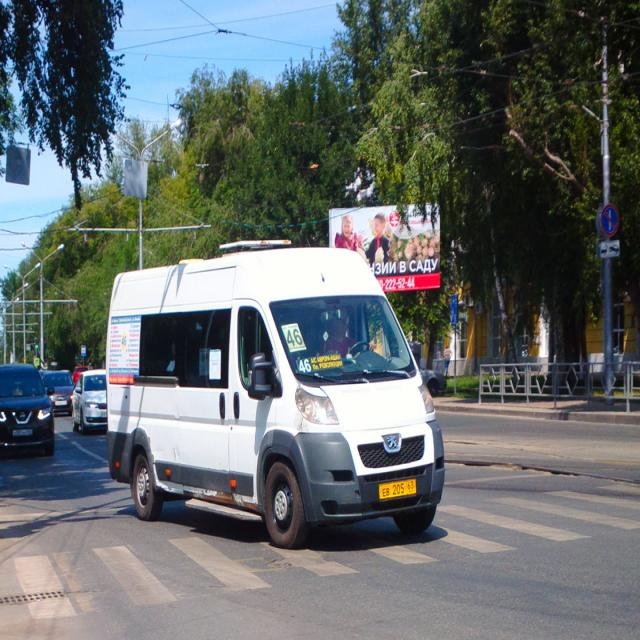number-of-bus: (286, 330, 304, 347), (299, 358, 313, 374)
